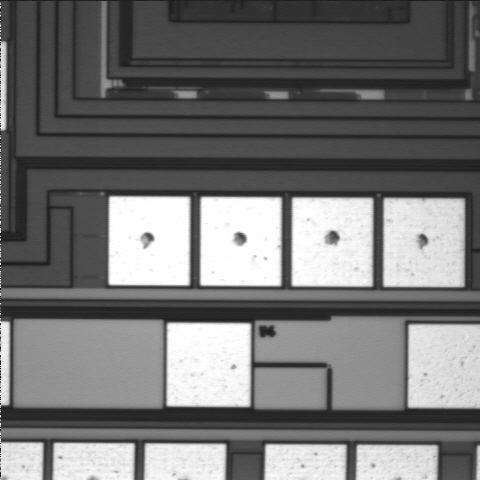pad: (200, 197, 282, 286), (109, 196, 190, 285), (292, 198, 373, 287), (383, 198, 464, 287), (167, 323, 251, 407)
